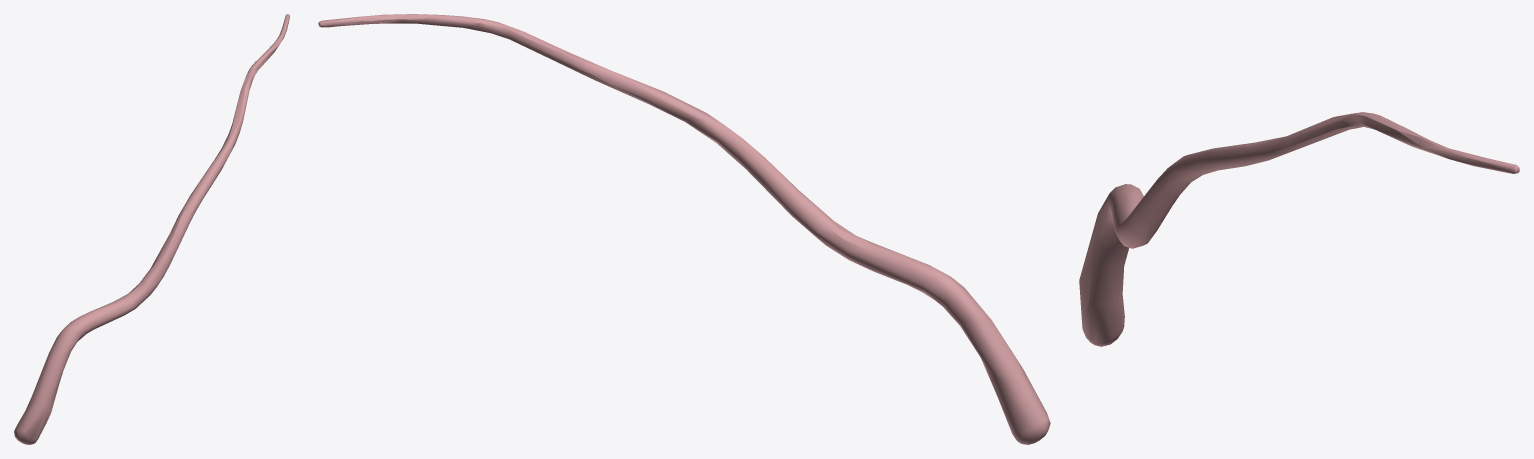
Rendered from fma71887_fj3088.glb.
3 views of the same model, side by side, from view 1: azimuth 30°, elevation 25°; view 2: azimuth 150°, elevation 25°; view 3: azimuth 270°, elevation 25° (orthographic). The views are drawn at different scales.
Parts seen in each view (by area): view 1: FMA71887_FJ3088; view 2: FMA71887_FJ3088; view 3: FMA71887_FJ3088.
Part boxes in pixels (box(x1,y1,x2,y2)): FMA71887_FJ3088: box(14, 14, 289, 444); FMA71887_FJ3088: box(318, 14, 1050, 444); FMA71887_FJ3088: box(1079, 112, 1519, 346).
Size of the model in its own units: 0.0539 by 0.0363 by 0.0272.
